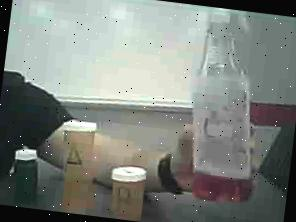Bottle A: (51, 118, 106, 216)
Bottle B: (106, 161, 151, 222)
Bottle C: (8, 148, 44, 207)
hazard: (176, 6, 284, 210)
